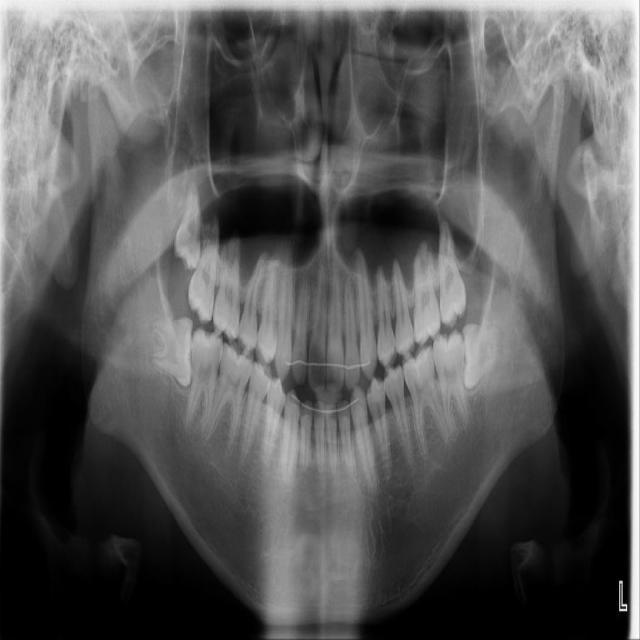3M ESPE Implant: (173, 186, 200, 271)
73: (594, 594, 605, 606)
BioHorizons Implant: (439, 219, 467, 329)
Biomet 3i Implant: (460, 322, 504, 391)
Blue Sky Bio Implant: (431, 329, 469, 437)
Caries: (185, 216, 222, 324)
Implant: (184, 327, 225, 434)
Keystone Dental Implant: (148, 316, 193, 386)
